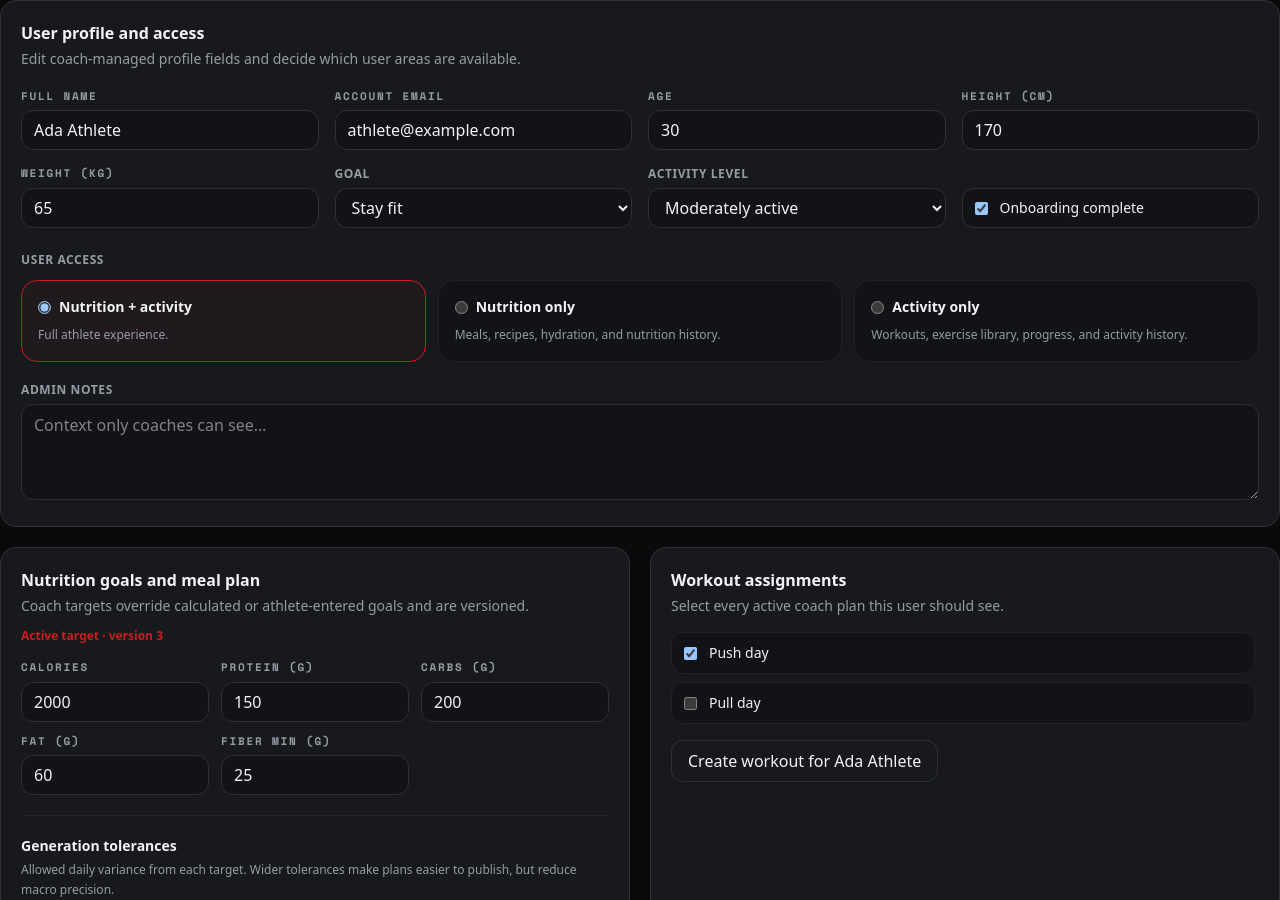
Scenario: AthleteManagementPanel › a failing meal-plan save does not prevent an already-applied profile save from being reported as applied
Replace the text in the field labelled "Full name" with "New Name". click: (170,130)
box: [21,110,318,150]
(page scrolled)
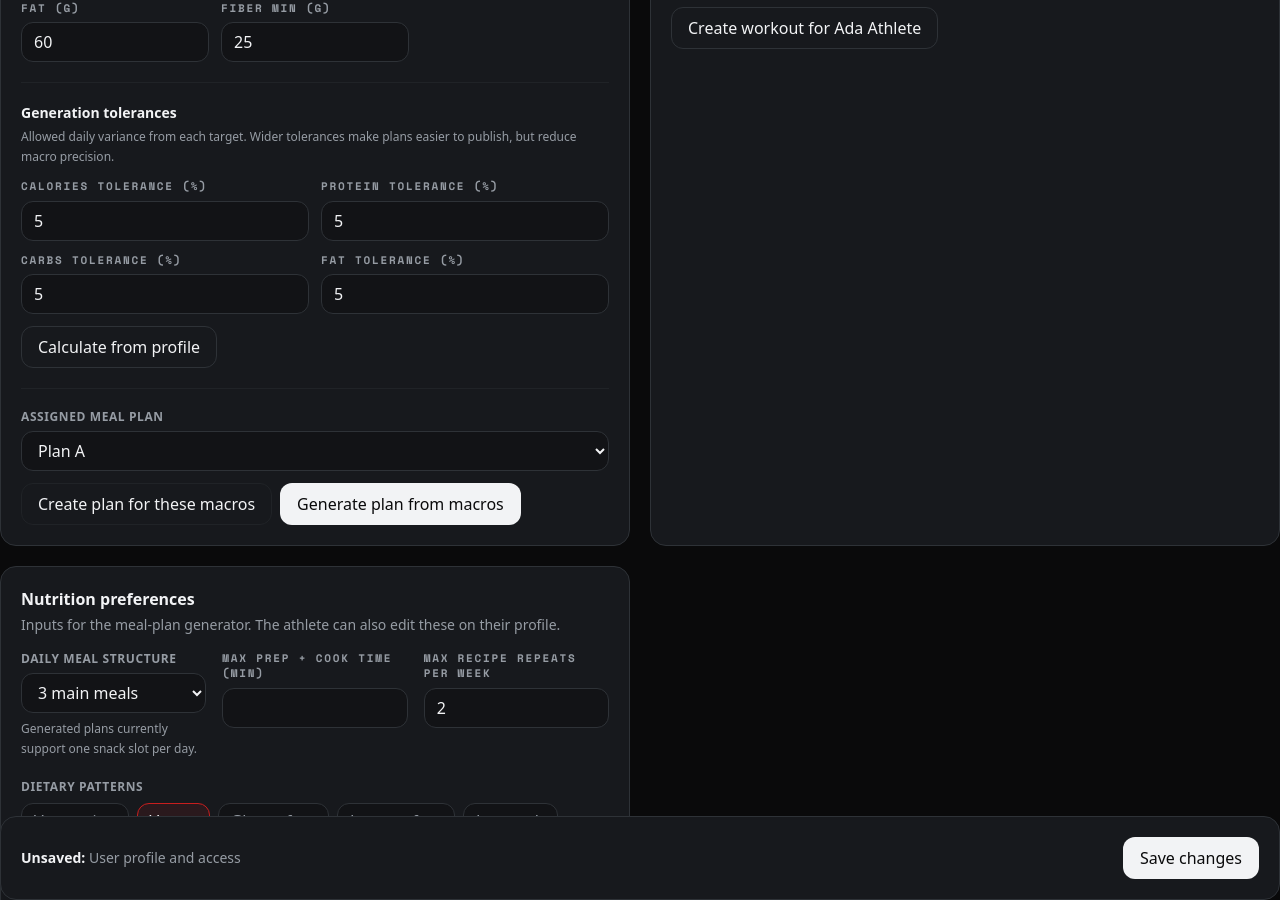
Select "Plan B" in the dropdown showing "Plan A". click: (315,451)
box: [21,431,609,471]
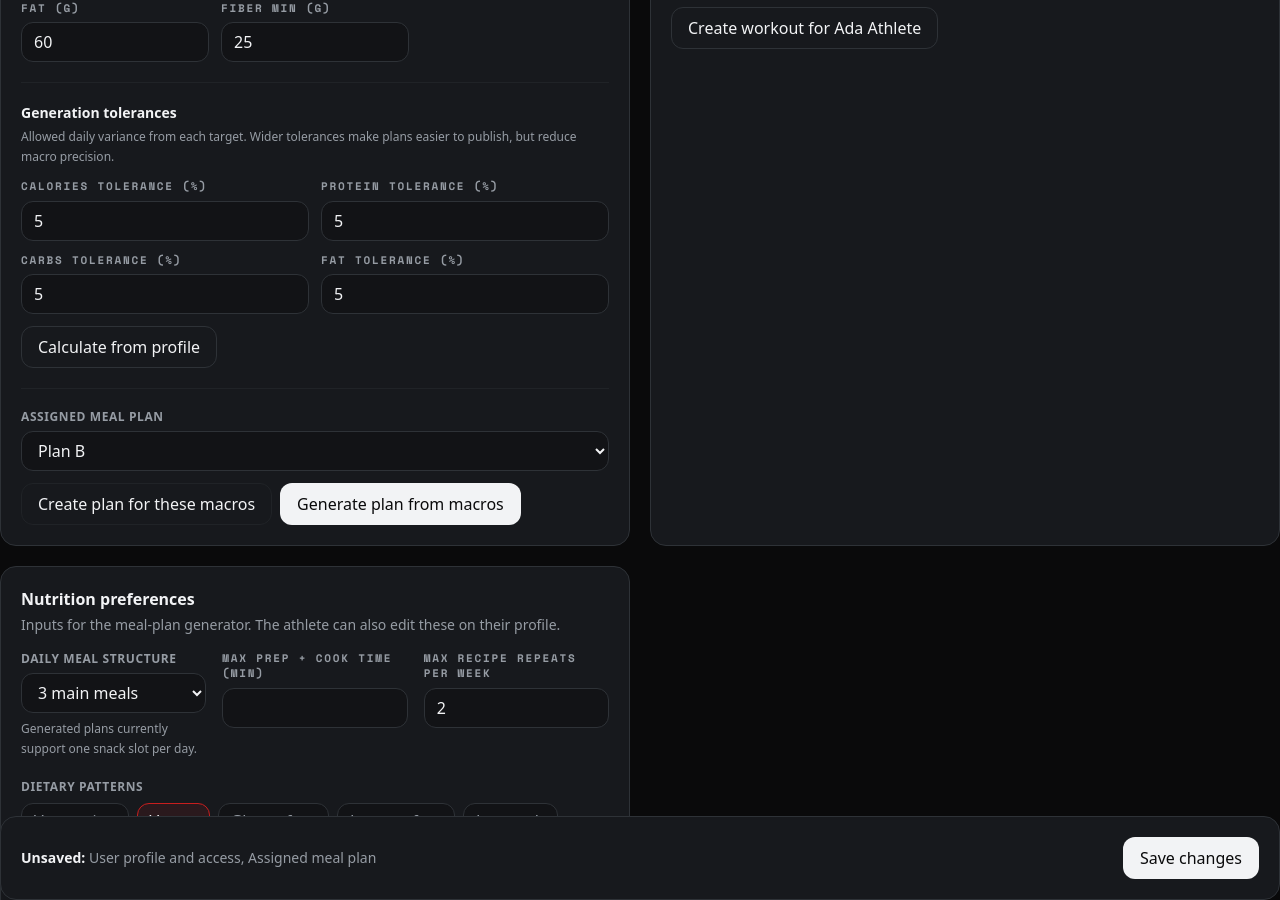
Check: the text "Unsaved:" shows "Assigned meal plan", box [89,848,376,867]
Click the button "Save changes". click: (1191,858)
box: [1123,837,1259,879]
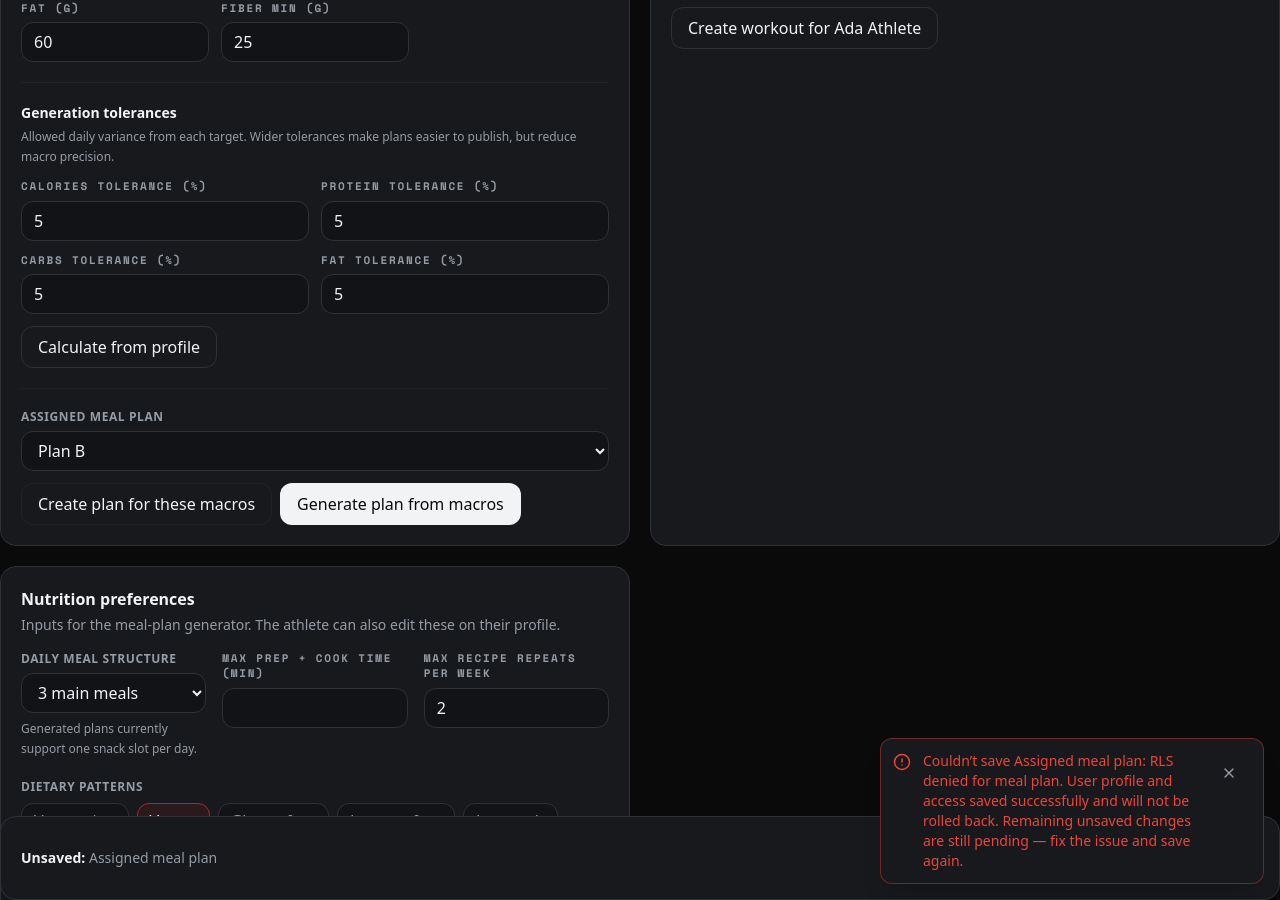
Check: the message shows "Assigned meal plan", box [923,751,1191,870]
Check: the message shows "RLS denied for meal plan", box [923,751,1191,870]
Check: the message shows "User profile and access", box [923,751,1191,870]
